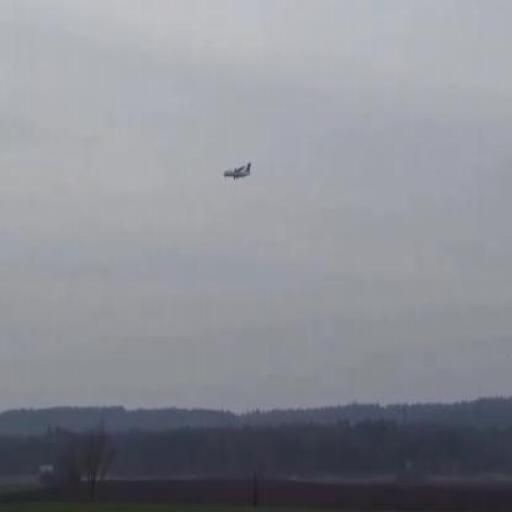aircraft: (223, 163, 250, 182)
